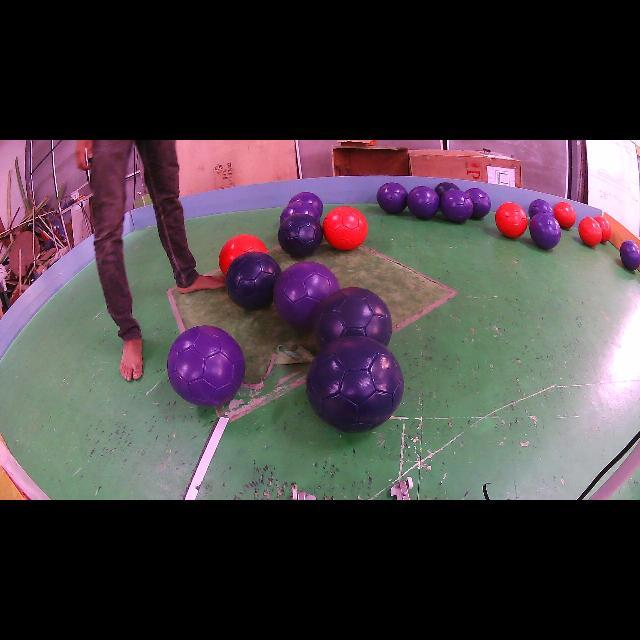B: (306, 336, 404, 432), (314, 288, 392, 348), (225, 251, 281, 310), (278, 214, 324, 258), (435, 182, 459, 199)
P: (168, 325, 245, 407), (274, 261, 340, 329), (530, 212, 561, 249), (440, 189, 474, 222), (408, 186, 440, 219), (376, 182, 408, 214), (280, 200, 320, 223), (289, 192, 324, 216), (465, 188, 491, 219), (620, 240, 640, 270), (529, 199, 552, 219)
R: (322, 206, 368, 250), (219, 234, 268, 275), (495, 202, 528, 238), (579, 216, 602, 246), (554, 201, 576, 229), (594, 216, 611, 242)
